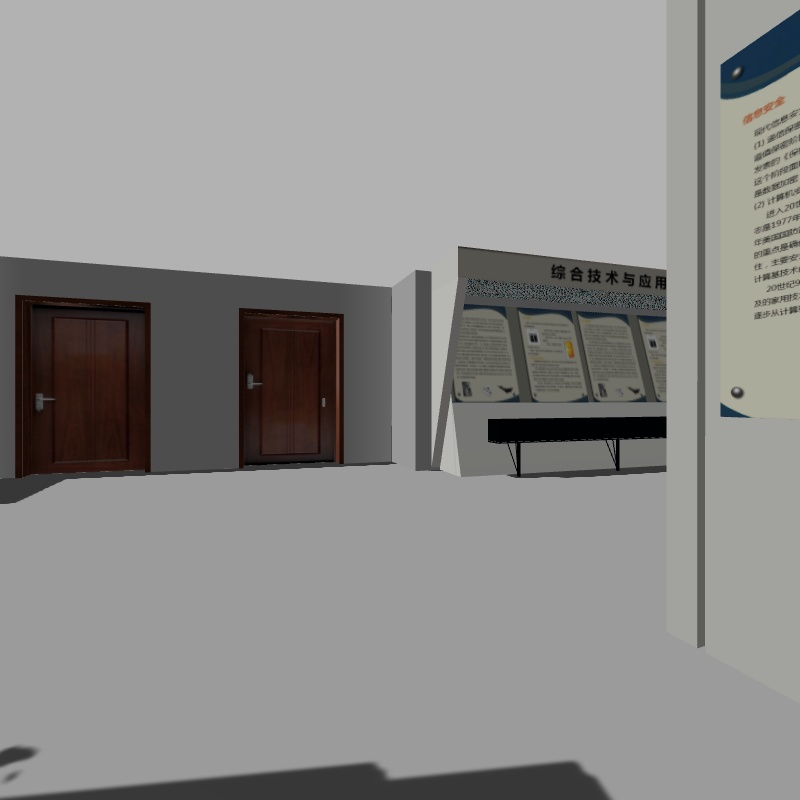handle: (32, 387, 60, 415), (242, 369, 265, 393)
